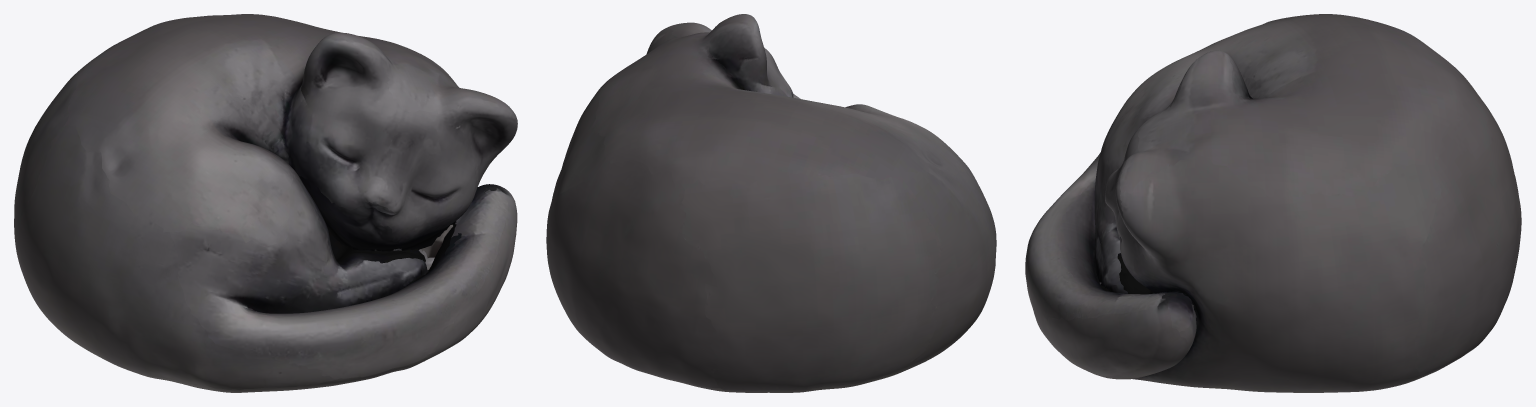
File: cat.glb
3 views of the same model, side by side, from view 1: azimuth 30°, elevation 25°; view 2: azimuth 150°, elevation 25°; view 3: azimuth 270°, elevation 25° (orthographic). The views are drawn at different scales.
Visible parts, largest first — view 1: tmpsuz_04ez.ply; view 2: tmpsuz_04ez.ply; view 3: tmpsuz_04ez.ply.
Boxes of the visible parts, <box> form: tmpsuz_04ez.ply: <box>14,14,517,392</box>; tmpsuz_04ez.ply: <box>546,14,996,392</box>; tmpsuz_04ez.ply: <box>1025,14,1521,392</box>.
Bounding box in the file's own units: 0.9874 × 0.6173 × 0.9647.
1 material, 1 textured.
